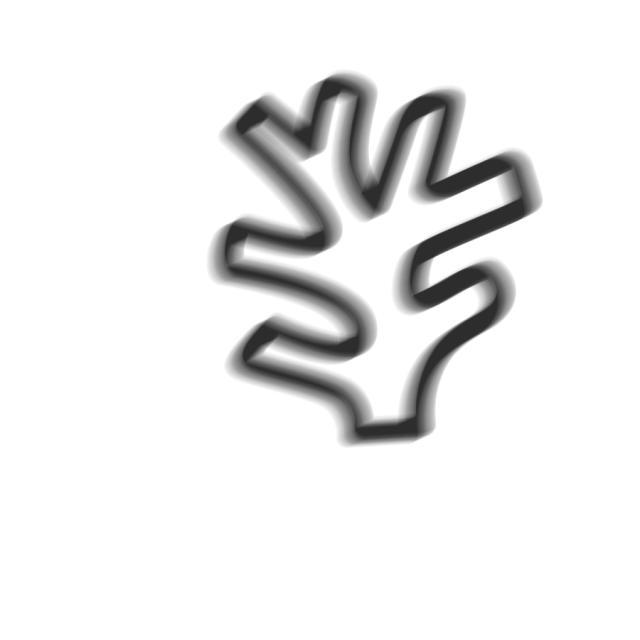coral: (201, 68, 550, 457)
